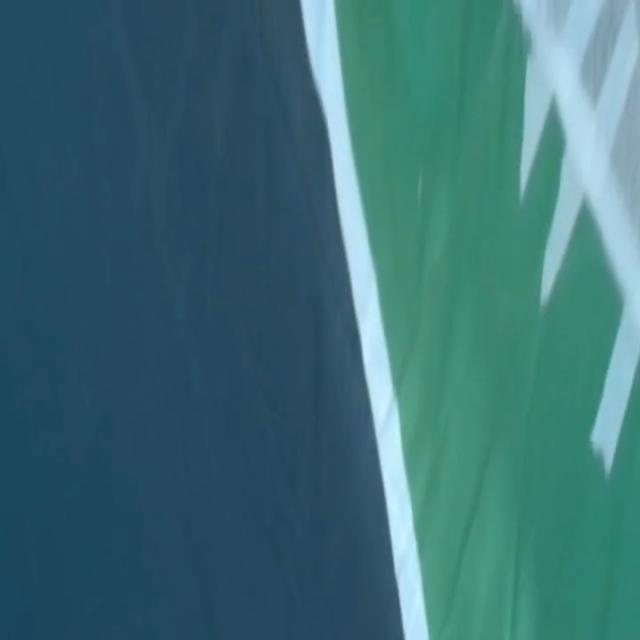right: (300, 0, 428, 639)
